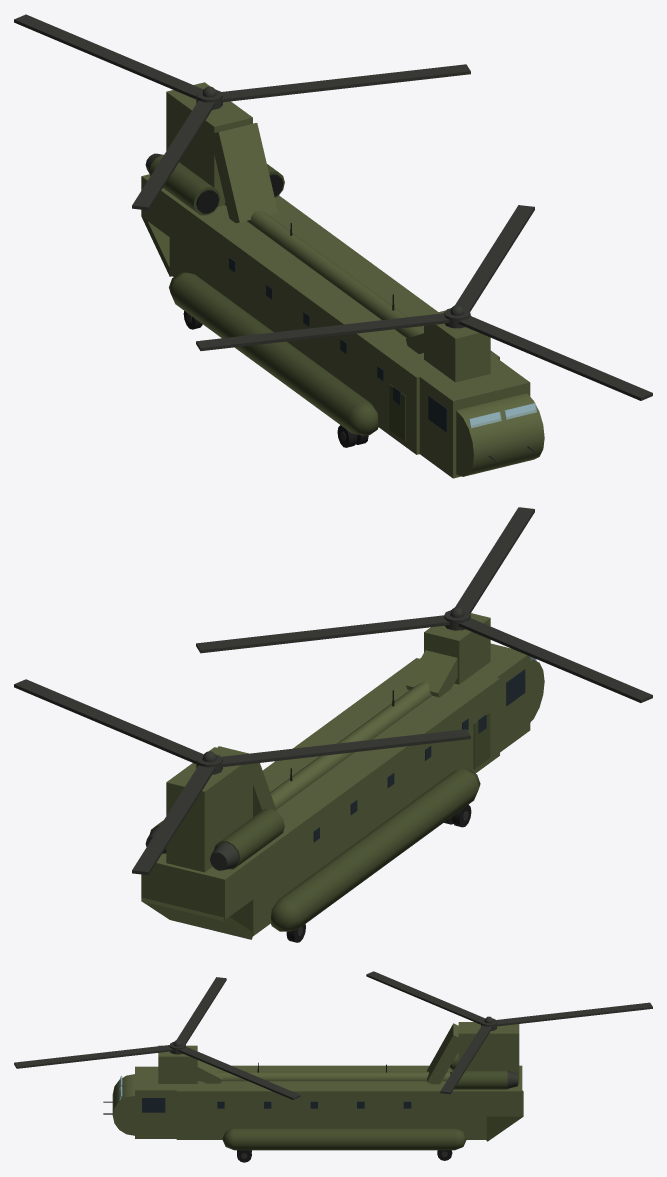
Rendered from ch47-chinook.glb.
3 views of the same model, one above another, from view 1: azimuth 30°, elevation 25°; view 2: azimuth 150°, elevation 25°; view 3: azimuth 270°, elevation 25° (orthographic). The views are drawn at different scales.
Parts seen in each view (by area): view 1: Mesh_Fuselage, Mesh_SponsonR, Mesh_NoseCap, Mesh_CockpitSection, Mesh_RearPylonFairing, Mesh_RearPylon, Mesh_SpineTunnel, Mesh_FrontPylon, Mesh_FrontBlade2, Mesh_RearBlade0, Mesh_FrontBlade0, Mesh_RearBlade1 (+5 smaller); view 2: Mesh_Fuselage, Mesh_SponsonR, Mesh_RearPylon, Mesh_TailUpper, Mesh_SpineTunnel, Mesh_CockpitSection, Mesh_FrontBlade1, Mesh_RearBlade2, Mesh_FrontBlade2, Mesh_RearBlade0, Mesh_FrontPylon, Mesh_RearBlade1 (+8 smaller); view 3: Mesh_Fuselage, Mesh_SponsonL, Mesh_CockpitSection, Mesh_RearPylon, Mesh_SpineTunnel, Mesh_FrontPylon, Mesh_NoseCap, Mesh_TailUpper, Mesh_FrontBlade0, Mesh_RearBlade1, Mesh_FrontBlade1, Mesh_RearPylonFairing (+7 smaller).
Part boxes in pixels (box(x1,y1,x2,y2)): Mesh_Fuselage: box(169, 195, 499, 454); Mesh_SponsonR: box(169, 272, 378, 435); Mesh_NoseCap: box(456, 393, 544, 476); Mesh_CockpitSection: box(419, 358, 530, 478); Mesh_RearPylonFairing: box(209, 123, 278, 222); Mesh_RearPylon: box(166, 82, 252, 206); Mesh_SpineTunnel: box(225, 202, 423, 338); Mesh_FrontPylon: box(424, 310, 490, 382); Mesh_FrontBlade2: box(196, 313, 449, 350); Mesh_RearBlade0: box(221, 64, 470, 102); Mesh_FrontBlade0: box(458, 316, 652, 400); Mesh_RearBlade1: box(14, 14, 203, 99); Mesh_Fuselage: box(230, 658, 499, 936); Mesh_SponsonR: box(271, 769, 480, 931); Mesh_RearPylon: box(166, 747, 252, 872); Mesh_TailUpper: box(141, 853, 253, 919); Mesh_SpineTunnel: box(270, 682, 432, 809); Mesh_CockpitSection: box(420, 643, 530, 752); Mesh_FrontBlade1: box(196, 615, 449, 653); Mesh_RearBlade2: box(221, 729, 470, 767); Mesh_FrontBlade2: box(458, 618, 652, 702); Mesh_RearBlade0: box(14, 679, 203, 763); Mesh_FrontPylon: box(424, 613, 490, 684); Mesh_RearBlade1: box(132, 765, 215, 875); Mesh_Fuselage: box(176, 1065, 486, 1139); Mesh_SponsonL: box(222, 1128, 466, 1150); Mesh_CockpitSection: box(135, 1066, 176, 1138); Mesh_RearPylon: box(458, 1022, 519, 1084); Mesh_SpineTunnel: box(197, 1071, 451, 1081); Mesh_FrontPylon: box(158, 1045, 197, 1083); Mesh_NoseCap: box(112, 1074, 134, 1135); Mesh_TailUpper: box(486, 1065, 522, 1116); Mesh_FrontBlade0: box(14, 1045, 173, 1068); Mesh_RearBlade1: box(496, 1002, 652, 1026); Mesh_FrontBlade1: box(178, 1046, 300, 1099); Mesh_RearPylonFairing: box(427, 1023, 464, 1084).
Bounding box in the file's own units: 14.08 × 6.02 × 27.43.
